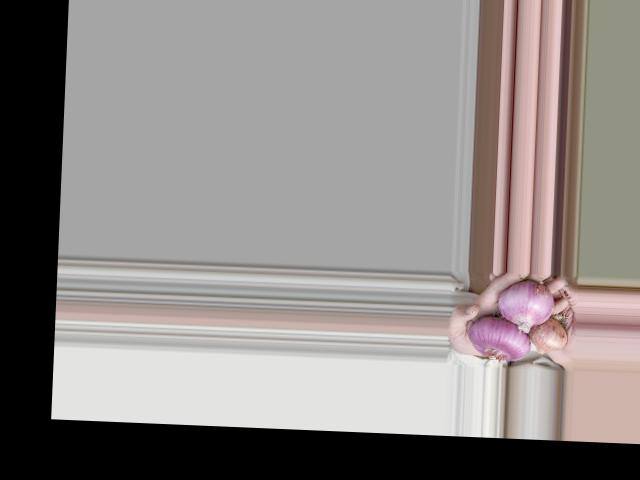onion: (467, 319, 529, 359)
